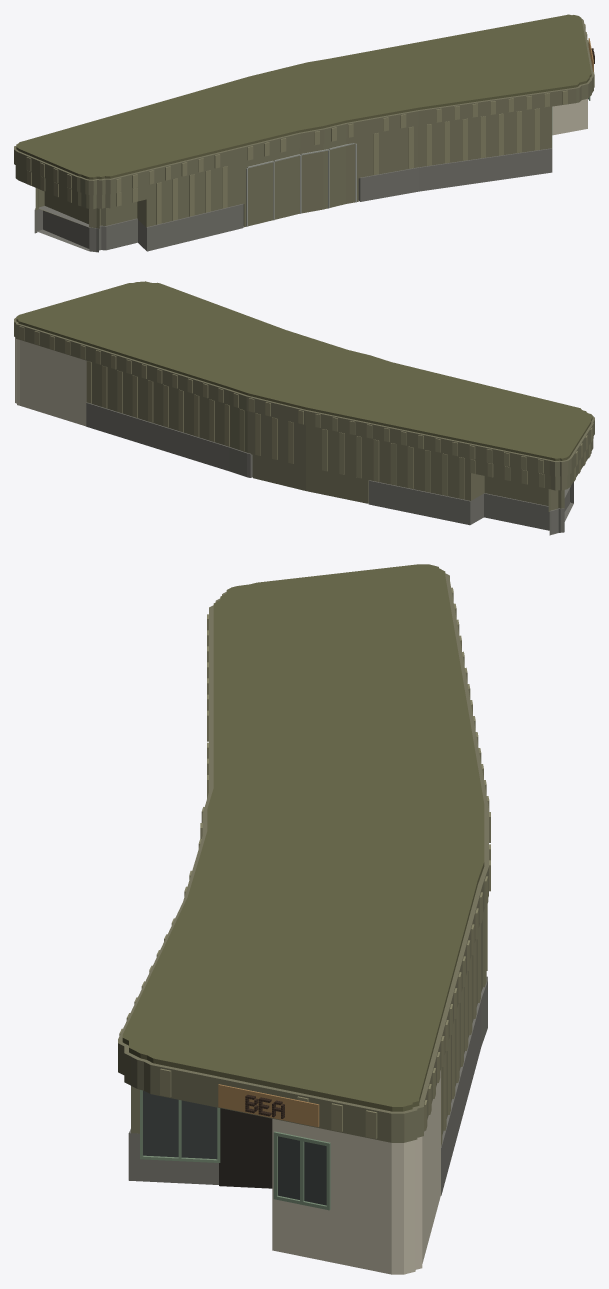
File: kiosk-park-bea.glb
3 views of the same model, one above another, from view 1: azimuth 30°, elevation 25°; view 2: azimuth 150°, elevation 25°; view 3: azimuth 270°, elevation 25° (orthographic). The views are drawn at different scales.
Visible parts, largest first — view 1: kiosk-park-bea; view 2: kiosk-park-bea; view 3: kiosk-park-bea.
Boxes of the visible parts, box(x1,y1,x2,y2) form: kiosk-park-bea: box(14, 14, 594, 252); kiosk-park-bea: box(14, 281, 594, 535); kiosk-park-bea: box(118, 564, 490, 1274).
Bounding box in the file's own units: 22.1 × 3.14 × 6.38.
